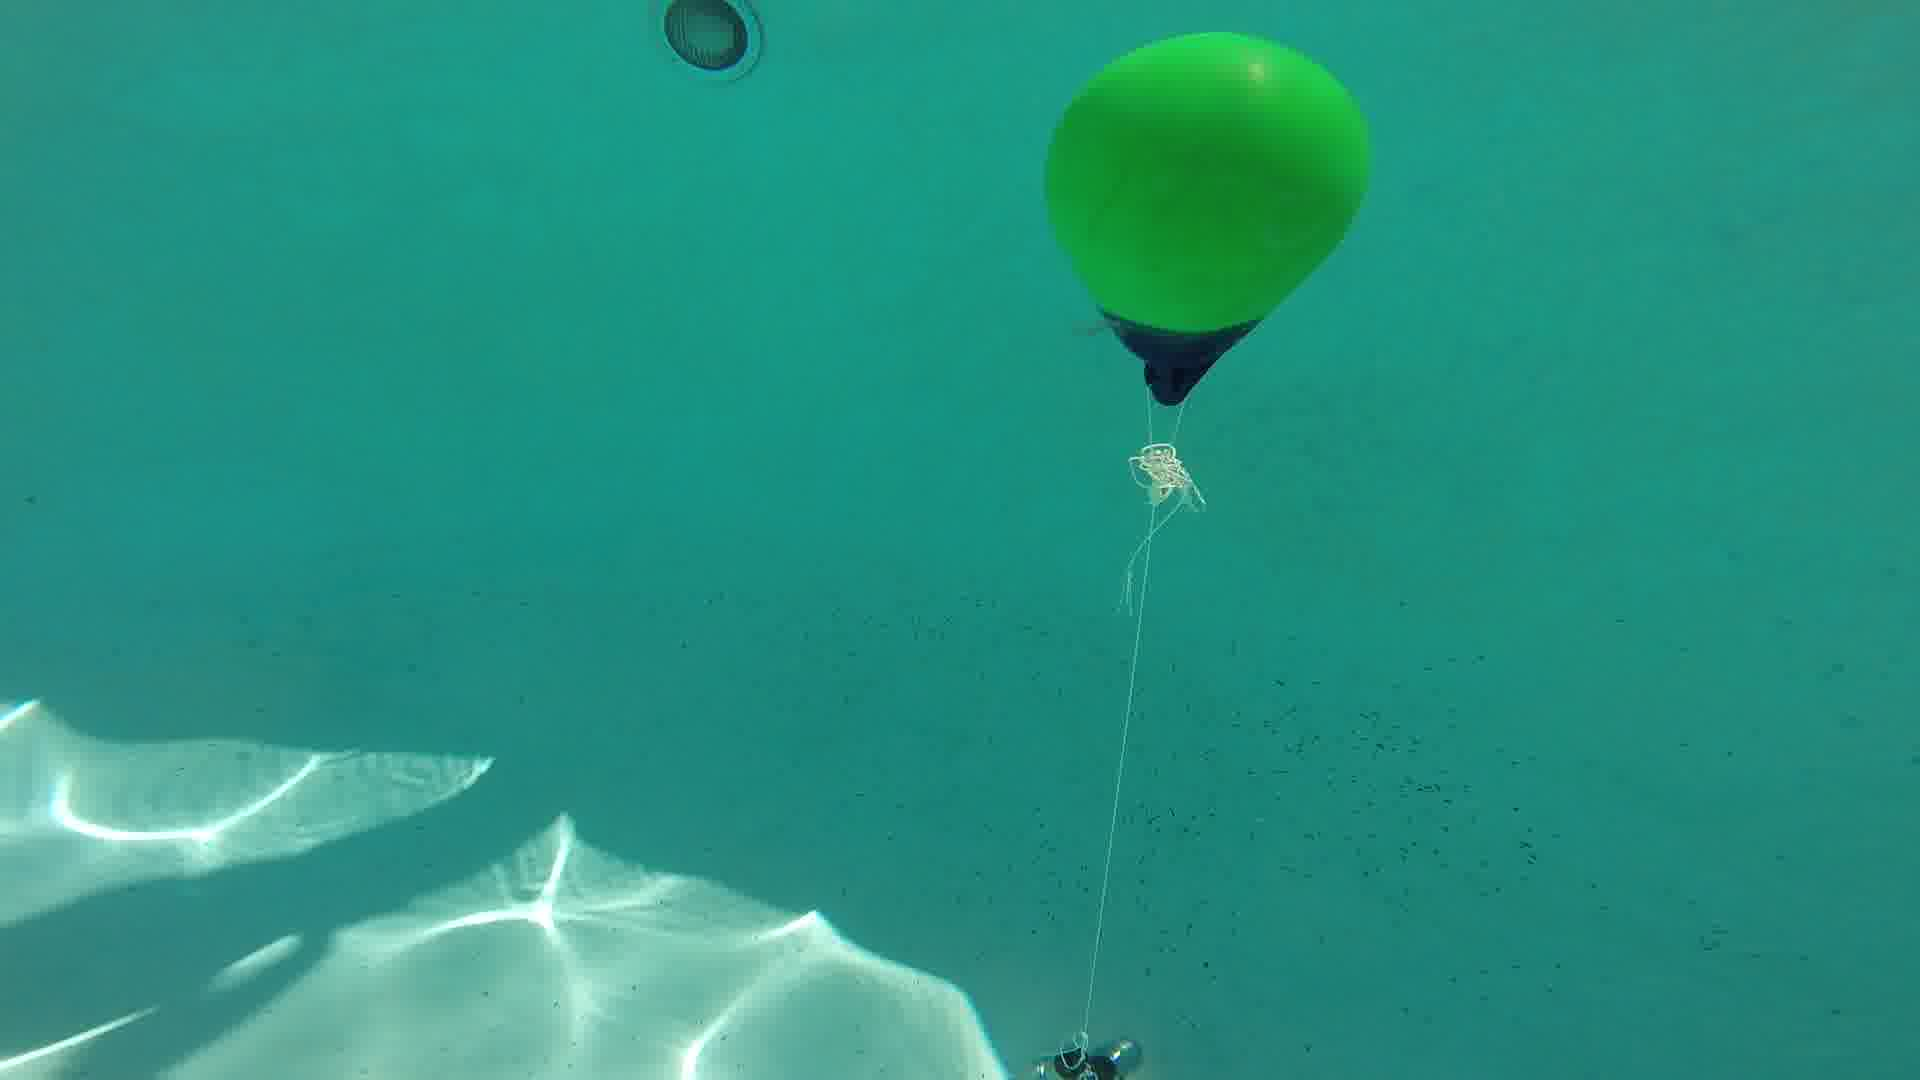yellow_buoy: (1040, 30, 1377, 418)
